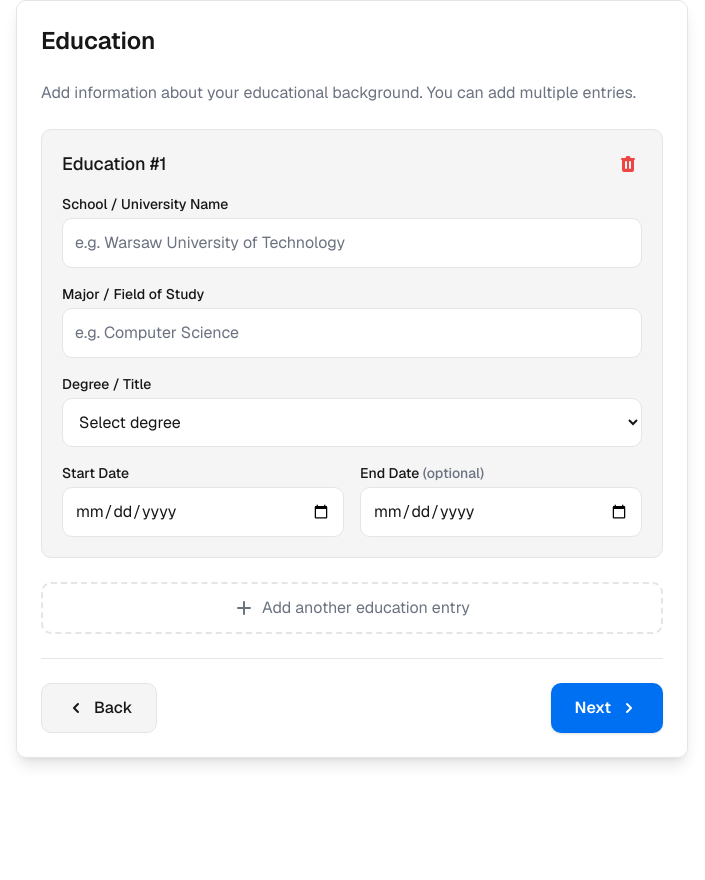
Test: EducationForm Component › Walidacja i przesyłanie (Submit) › powinien zgłosić błąd, jeśli data końcowa jest wcześniejsza niż początkowa
In the date field labelled "Start Date": (203, 512) [62,487,344,537], type "2020-01-01"
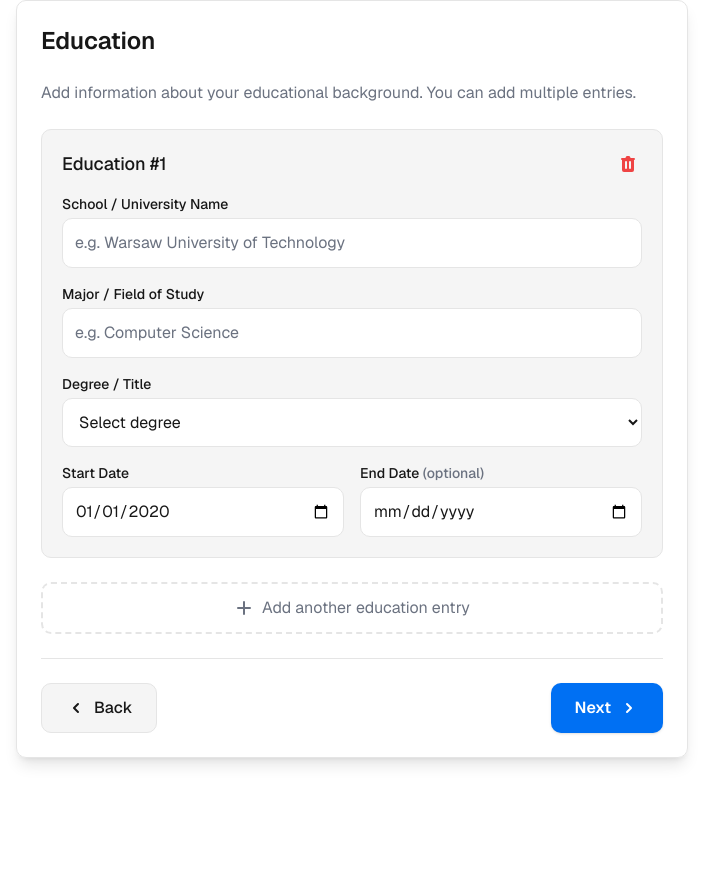
In the date field labelled "End Date (optional)": (501, 512) [360,487,642,537], type "2018-01-01"
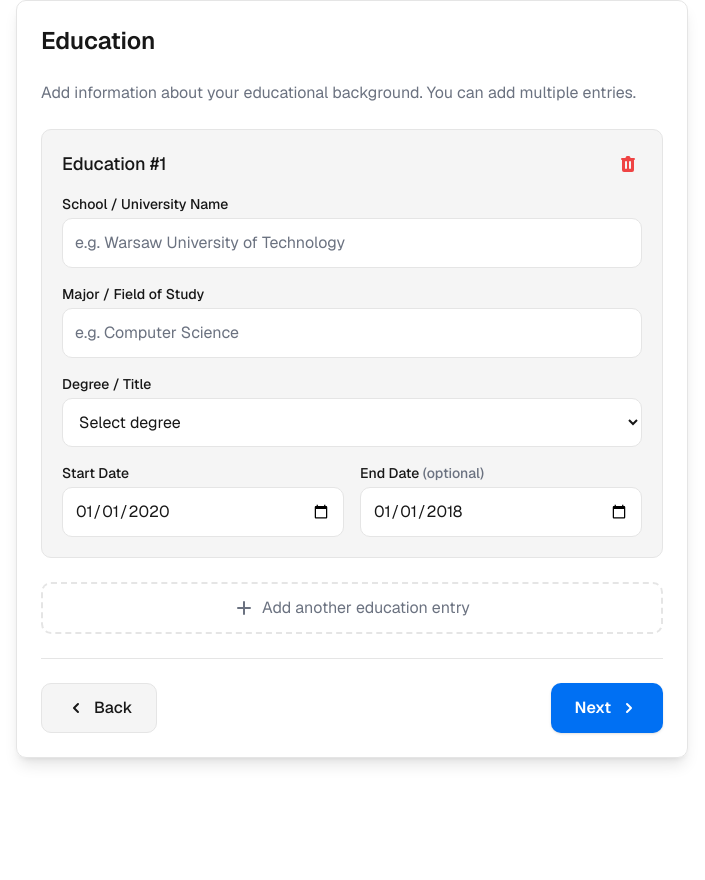
Click the button "Next": (607, 708) [551,683,663,733]
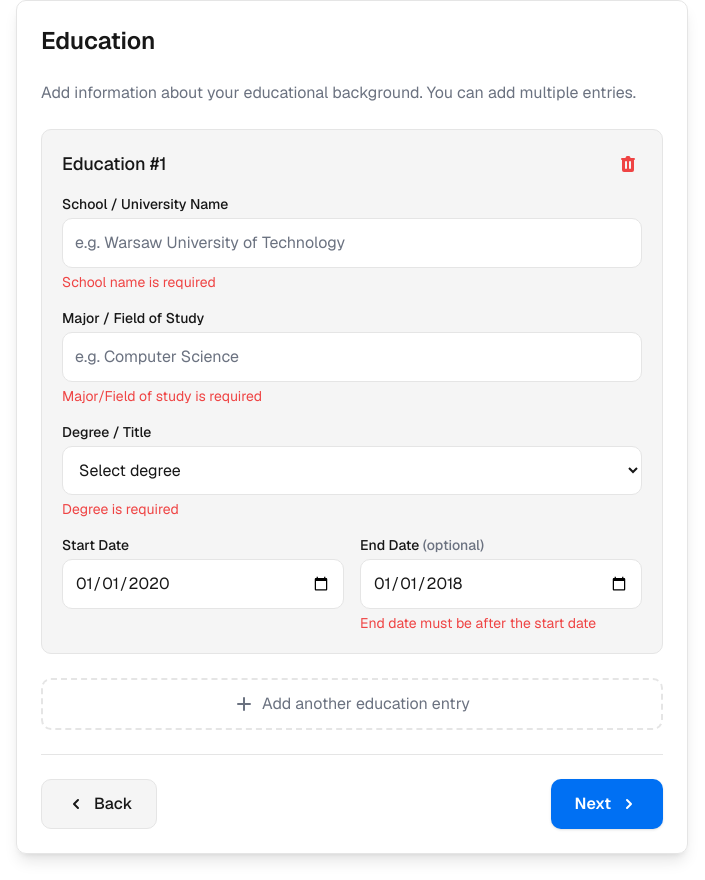
Check: the text "End date must be after the start date" is shown, box [360,614,596,632]
